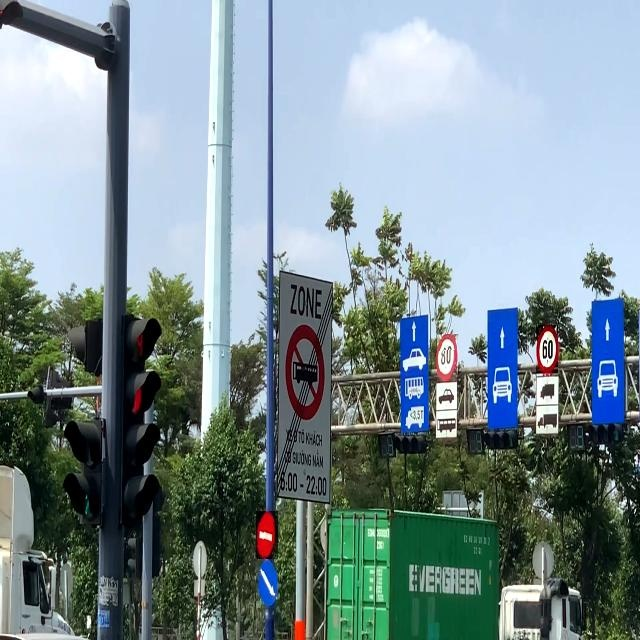bien_hieu_lenh: (256, 511, 278, 560), (256, 559, 278, 608), (536, 325, 558, 373), (437, 334, 457, 381)
